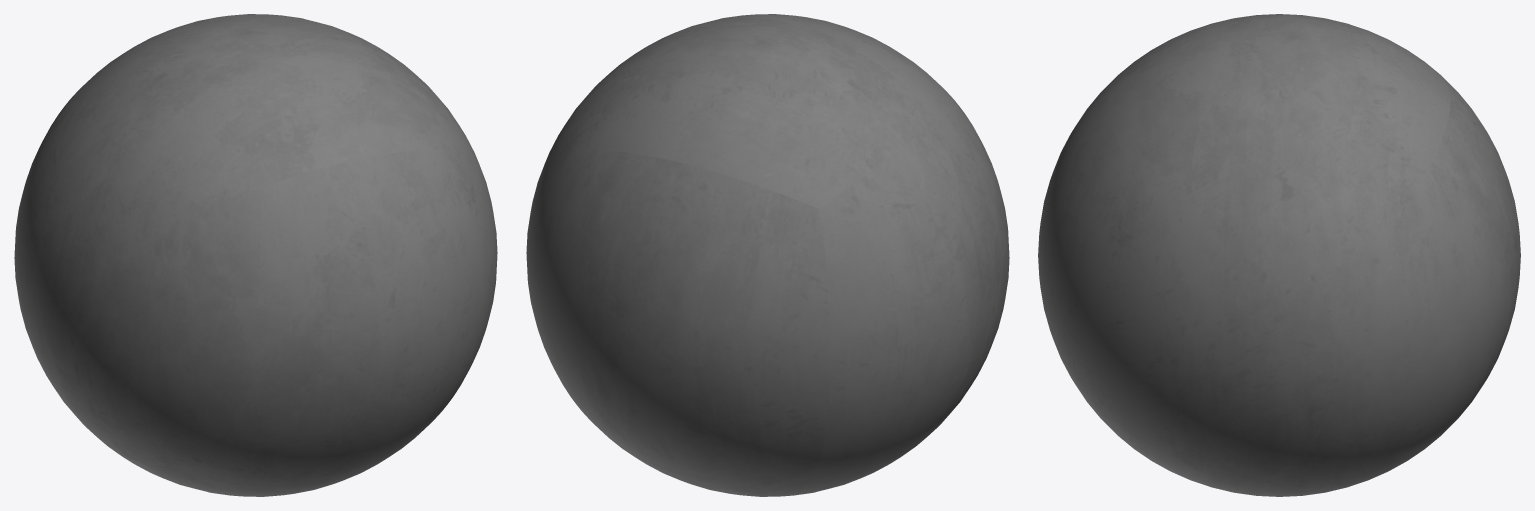
The model's file is ball2.obj.
3 views of the same model, side by side, from view 1: azimuth 30°, elevation 25°; view 2: azimuth 150°, elevation 25°; view 3: azimuth 270°, elevation 25° (orthographic).
Parts seen in each view (by area): view 1: ball; view 2: ball; view 3: ball.
Boxes of the visible parts, x1,y1,x2,y2 form: ball: (14,14,497,496); ball: (526,14,1009,496); ball: (1038,14,1520,496).
Size of the model in its own units: 5.09 by 5.09 by 5.09.
1 material, 1 textured.
